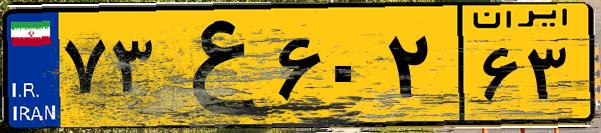0: (330, 28, 385, 110)
2: (385, 28, 445, 110)
3: (525, 38, 570, 115), (110, 28, 158, 98)
6: (270, 28, 330, 110), (475, 38, 525, 113)
7: (57, 26, 110, 100)
ع: (158, 12, 270, 120)
